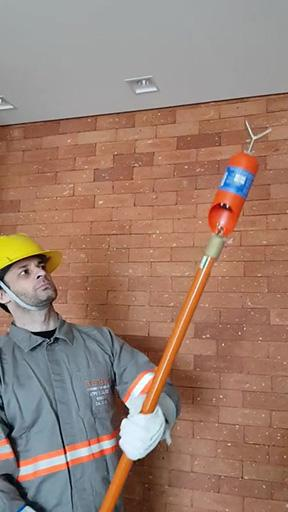Detector_Tensao_Contato: (206, 119, 274, 239)
Vara_Manobra: (97, 236, 226, 512)
